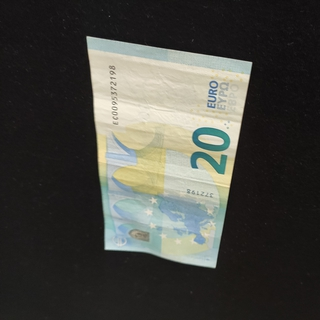20EUROBack: (84, 34, 253, 269)
